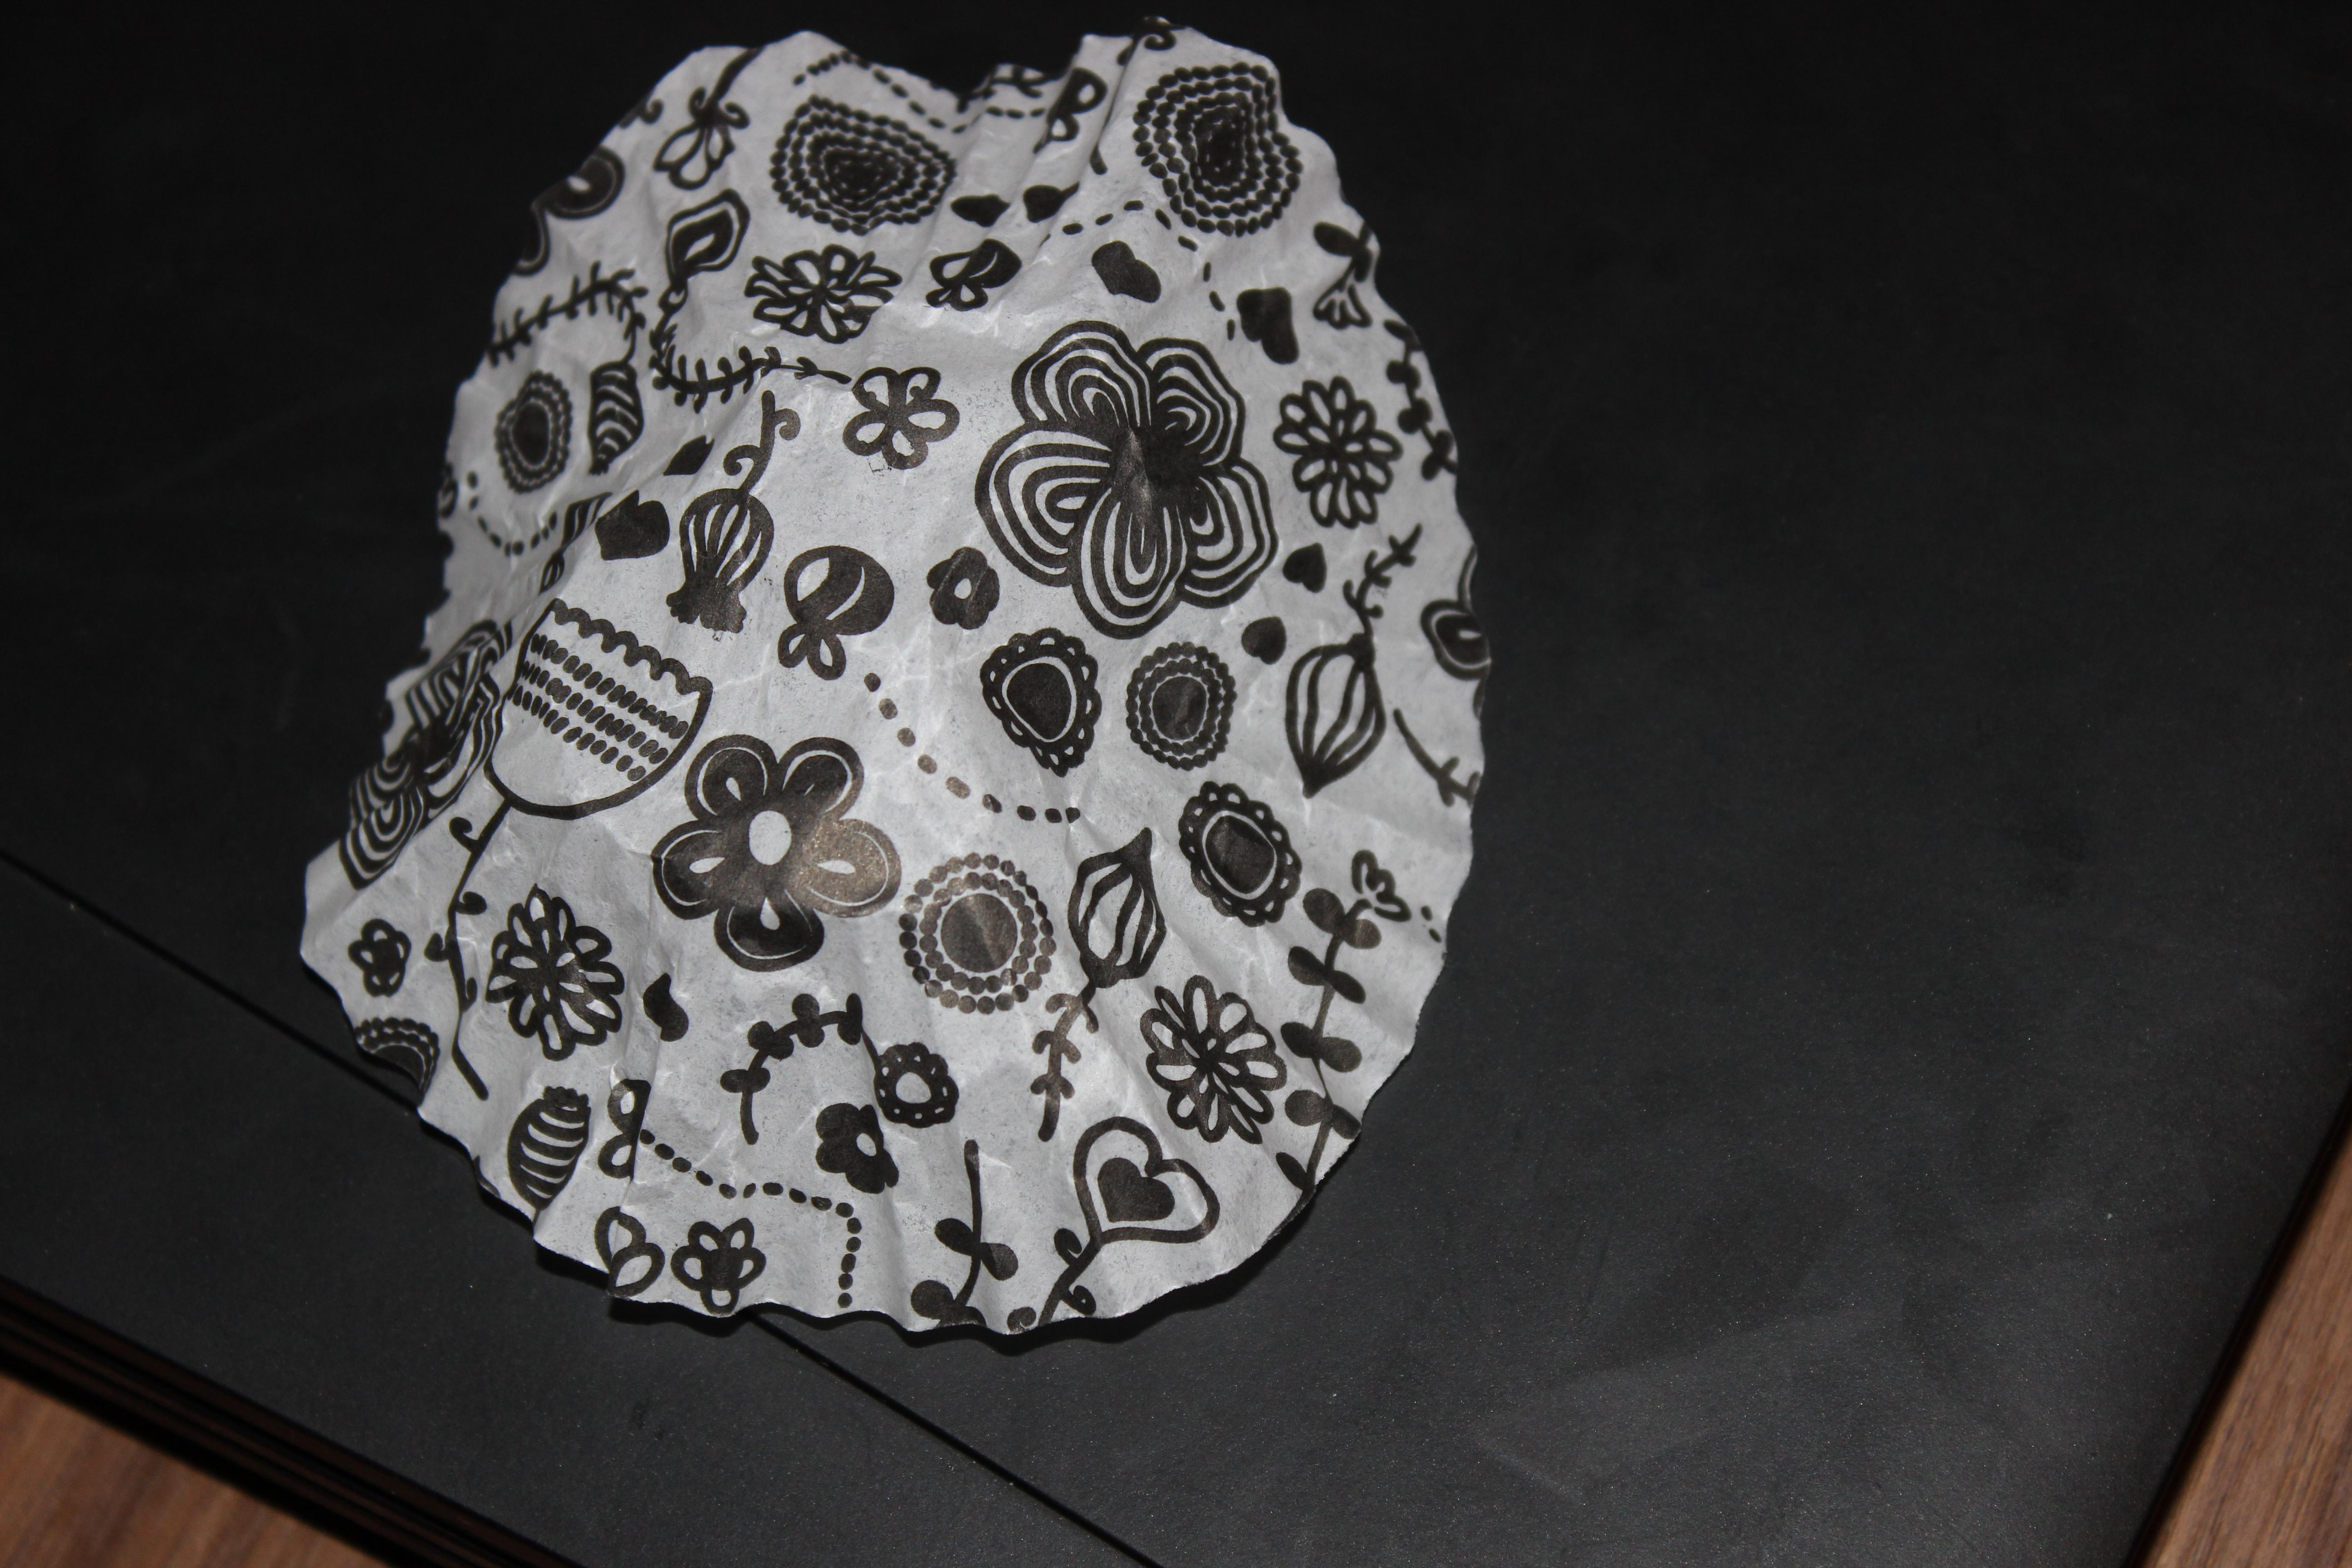cupcakePaper: (289, 16, 1522, 1363)
